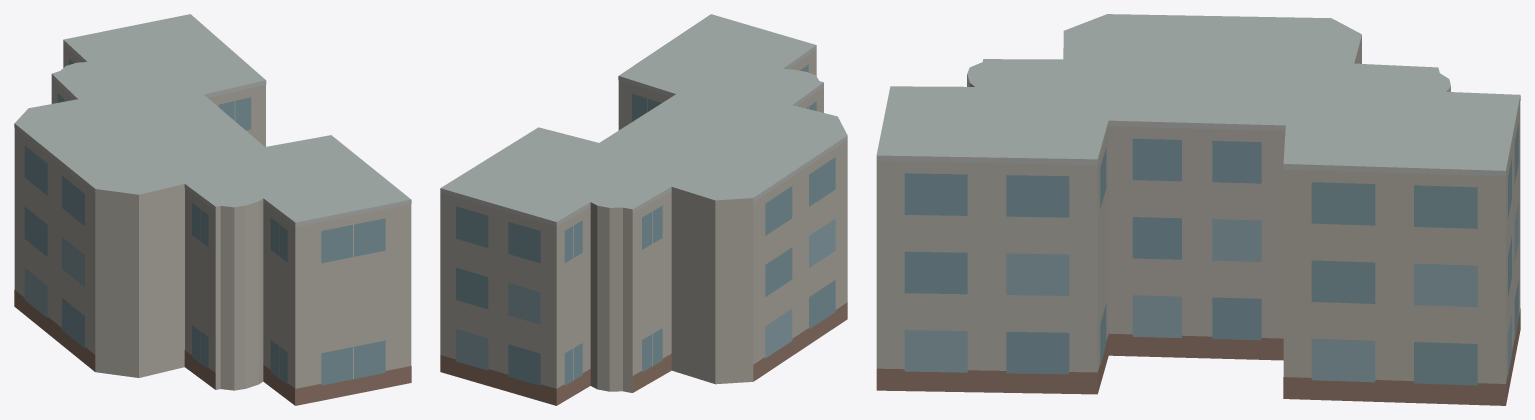
Rendered from survey-upis-32624475.glb.
The picture shows the model from 3 angles, left to right: view 1: azimuth 30°, elevation 25°; view 2: azimuth 150°, elevation 25°; view 3: azimuth 270°, elevation 25°; orthographic projection. The views are drawn at different scales.
Parts seen in each view (by area): view 1: survey-upis-32624475.tmp; view 2: survey-upis-32624475.tmp; view 3: survey-upis-32624475.tmp.
Part boxes in pixels (x1=…): survey-upis-32624475.tmp: x1=14, y1=14, x2=411, y2=405; survey-upis-32624475.tmp: x1=440, y1=14, x2=847, y2=405; survey-upis-32624475.tmp: x1=876, y1=14, x2=1520, y2=405.
Size of the model in its own units: 14.61 by 10.2 by 25.34.
